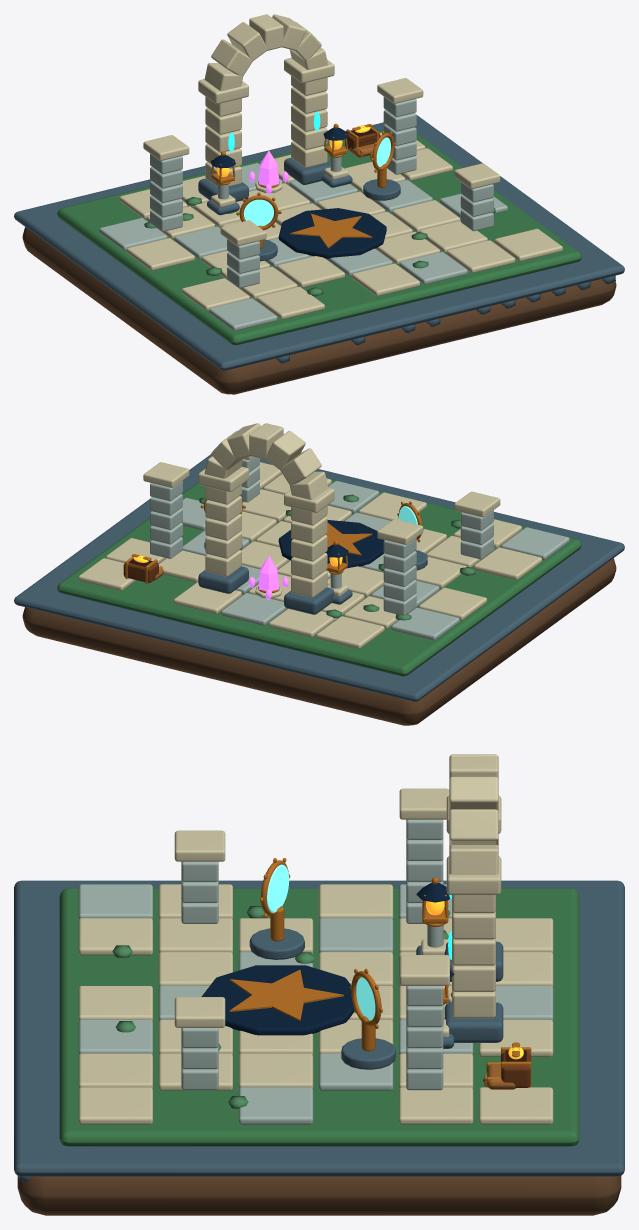
File: 05_old_king_ruins.glb
3 renders of one model, top to bottom at view 1: azimuth 30°, elevation 25°; view 2: azimuth 150°, elevation 25°; view 3: azimuth 270°, elevation 25°, orthographic. The views are drawn at different scales.
Parts seen in each view (by area): view 1: diorama_surface, ruin_moss_platform, diorama_earth, star_puzzle_platform, ancient_floor_tile, ancient_floor_tile.002, ancient_floor_tile.027, ancient_floor_tile.032, ancient_floor_tile.004, ancient_floor_tile.015, ancient_floor_tile.010, ancient_floor_tile.001 (+42 smaller); view 2: diorama_surface, diorama_earth, ruin_moss_platform, star_puzzle_platform, ancient_floor_tile.009, ancient_floor_tile.001, ancient_floor_tile.003, ancient_floor_tile.020, ancient_floor_tile, ancient_floor_tile.002, ancient_floor_tile.014, ancient_floor_tile.026 (+59 smaller); view 3: diorama_surface, ruin_moss_platform, diorama_earth, star_puzzle_platform, ancient_floor_tile.032, ancient_floor_tile.033, ancient_floor_tile.035, ancient_floor_tile.034, ancient_floor_tile.004, ancient_floor_tile.002, ancient_floor_tile.029, ancient_floor_tile (+57 smaller).
Part boxes in pixels (bbox=[...]): diorama_surface: bbox=[14, 115, 624, 370]; ruin_moss_platform: bbox=[57, 129, 581, 344]; diorama_earth: bbox=[22, 227, 616, 394]; star_puzzle_platform: bbox=[278, 208, 386, 258]; ancient_floor_tile: bbox=[209, 298, 277, 330]; ancient_floor_tile.002: bbox=[126, 238, 194, 270]; ancient_floor_tile.027: bbox=[447, 240, 515, 272]; ancient_floor_tile.032: bbox=[494, 228, 562, 261]; ancient_floor_tile.004: bbox=[256, 286, 324, 319]; ancient_floor_tile.015: bbox=[352, 263, 419, 296]; ancient_floor_tile.010: bbox=[277, 256, 344, 287]; ancient_floor_tile.001: bbox=[181, 278, 249, 310]; diorama_surface: bbox=[14, 454, 624, 701]; diorama_earth: bbox=[22, 558, 616, 725]; ruin_moss_platform: bbox=[57, 462, 581, 676]; star_puzzle_platform: bbox=[278, 520, 384, 568]; ancient_floor_tile.009: bbox=[316, 616, 384, 648]; ancient_floor_tile.001: bbox=[474, 547, 541, 579]; ancient_floor_tile.003: bbox=[391, 607, 459, 640]; ancient_floor_tile.020: bbox=[221, 593, 287, 625]; ancient_floor_tile: bbox=[501, 527, 569, 559]; ancient_floor_tile.002: bbox=[419, 587, 486, 620]; ancient_floor_tile.014: bbox=[269, 608, 336, 637]; ancient_floor_tile.026: bbox=[173, 582, 241, 613]; diorama_surface: bbox=[14, 880, 624, 1176]; ruin_moss_platform: bbox=[59, 888, 579, 1146]; diorama_earth: bbox=[17, 1176, 621, 1215]; star_puzzle_platform: bbox=[201, 965, 354, 1035]; ancient_floor_tile.032: bbox=[78, 1087, 152, 1124]; ancient_floor_tile.033: bbox=[238, 1087, 313, 1124]; ancient_floor_tile.035: bbox=[479, 1087, 553, 1124]; ancient_floor_tile.034: bbox=[399, 1087, 473, 1124]; ancient_floor_tile.004: bbox=[78, 918, 152, 955]; ancient_floor_tile.002: bbox=[318, 884, 393, 919]; ancient_floor_tile.029: bbox=[238, 1053, 313, 1088]; ancient_floor_tile: bbox=[78, 884, 152, 919].
Bounding box in the file's own units: 9.7 × 5.02 × 8.7.
